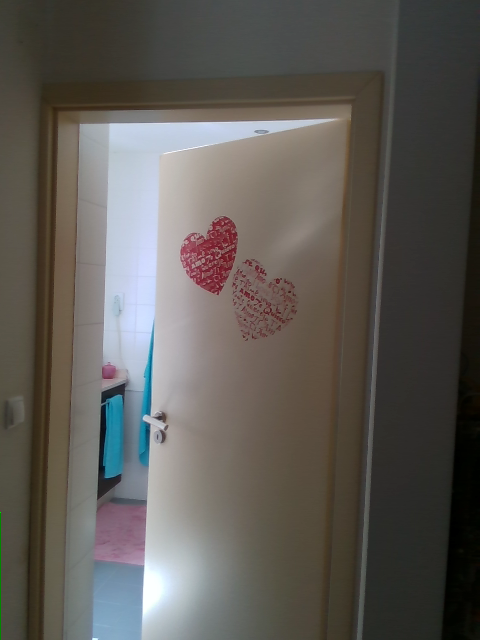semi: (25, 71, 385, 639)
